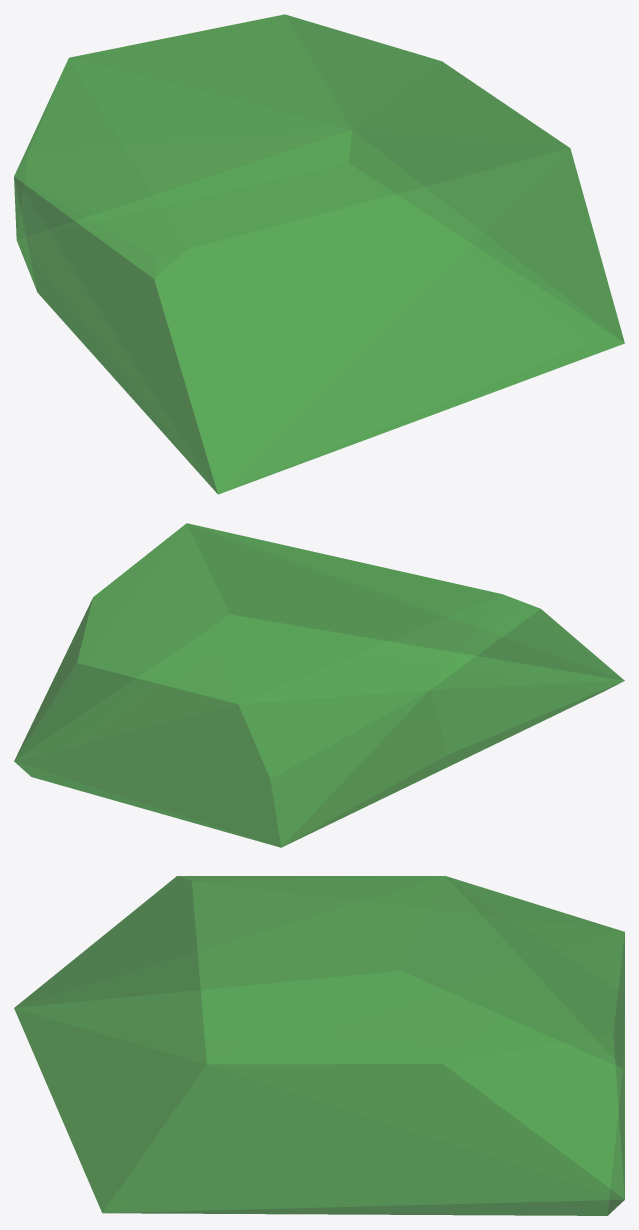
The picture shows the model from 3 angles, top to bottom: view 1: azimuth 30°, elevation 25°; view 2: azimuth 150°, elevation 25°; view 3: azimuth 270°, elevation 25°; orthographic projection. The views are drawn at different scales.
Parts seen in each view (by area): view 1: Shape_IndexedFaceSet.015_Shape_IndexedFaceSet.16785; view 2: Shape_IndexedFaceSet.015_Shape_IndexedFaceSet.16785; view 3: Shape_IndexedFaceSet.015_Shape_IndexedFaceSet.16785.
Part boxes in pixels (box(x1,y1,x2,y2)): Shape_IndexedFaceSet.015_Shape_IndexedFaceSet.16785: box(14, 14, 624, 494); Shape_IndexedFaceSet.015_Shape_IndexedFaceSet.16785: box(14, 523, 624, 847); Shape_IndexedFaceSet.015_Shape_IndexedFaceSet.16785: box(14, 876, 624, 1215).
Bounding box in the file's own units: 0.2517 × 0.0912 × 0.3068.
